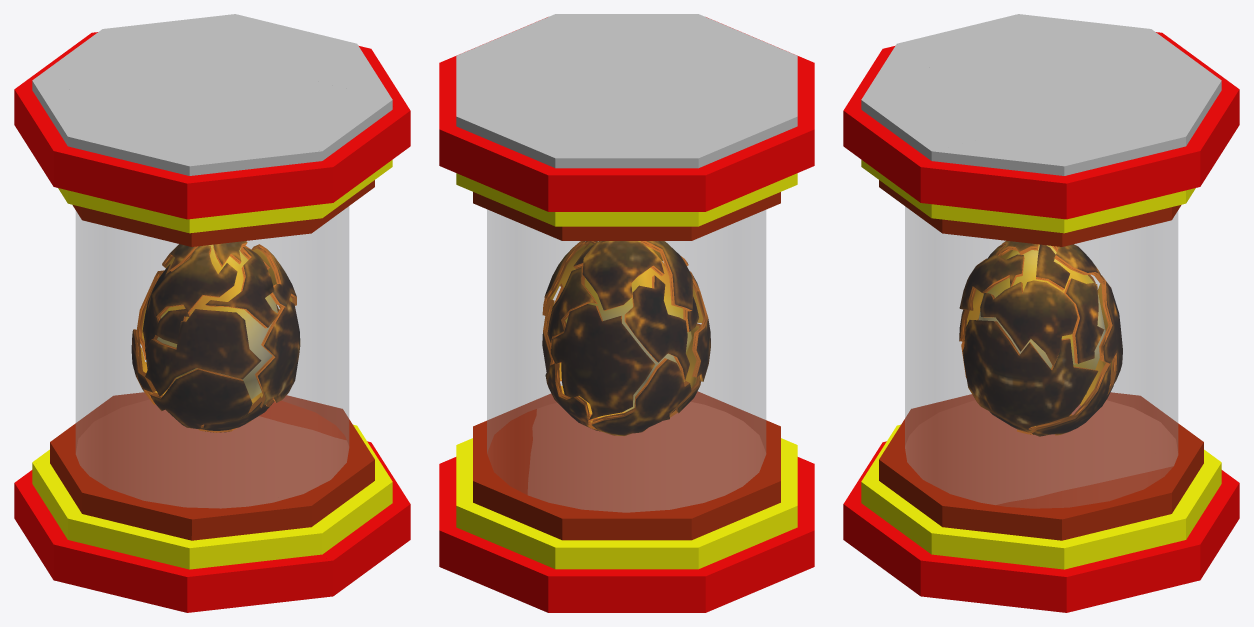
File: spawner.obj
The picture shows the model from 3 angles, left to right: view 1: azimuth 30°, elevation 25°; view 2: azimuth 150°, elevation 25°; view 3: azimuth 270°, elevation 25°; orthographic projection.
Visible parts, largest first — view 1: Part1, Union6, Union2, Egg1, Union3, Union5, Union4, Union7, Union1; view 2: Part1, Union6, Union2, Egg1, Union3, Union5, Union4, Union7, Union1; view 3: Part1, Union6, Union2, Egg1, Union3, Union5, Union4, Union7, Union1.
Boxes of the visible parts, x1=… form: Part1: x1=76, y1=206, x2=348, y2=508; Union6: x1=32, y1=14, x2=392, y2=175; Union2: x1=50, y1=392, x2=374, y2=540; Egg1: x1=131, y1=241, x2=300, y2=432; Union3: x1=14, y1=32, x2=410, y2=219; Union5: x1=14, y1=441, x2=410, y2=612; Union4: x1=32, y1=424, x2=392, y2=569; Union7: x1=58, y1=160, x2=392, y2=233; Union1: x1=72, y1=180, x2=374, y2=246; Part1: x1=487, y1=209, x2=765, y2=512; Union6: x1=456, y1=14, x2=797, y2=168; Union2: x1=473, y1=391, x2=780, y2=540; Egg1: x1=542, y1=241, x2=710, y2=436; Union3: x1=439, y1=17, x2=814, y2=211; Union5: x1=439, y1=457, x2=814, y2=612; Union4: x1=456, y1=438, x2=797, y2=569; Union7: x1=456, y1=173, x2=797, y2=226; Union1: x1=473, y1=192, x2=780, y2=240; Part1: x1=905, y1=206, x2=1177, y2=508; Union6: x1=861, y1=14, x2=1221, y2=175; Union2: x1=879, y1=392, x2=1203, y2=540; Egg1: x1=959, y1=240, x2=1122, y2=436; Union3: x1=843, y1=32, x2=1239, y2=219; Union5: x1=843, y1=441, x2=1239, y2=612; Union4: x1=861, y1=424, x2=1221, y2=569; Union7: x1=861, y1=160, x2=1195, y2=233; Union1: x1=879, y1=180, x2=1181, y2=246.
Bounding box in the file's own units: 10.44 × 12.77 × 10.44.
